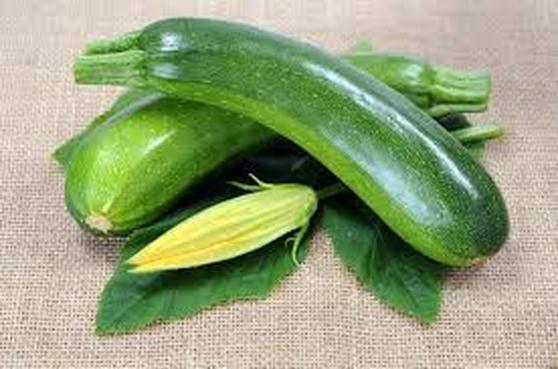zucchini: (72, 10, 532, 257)
